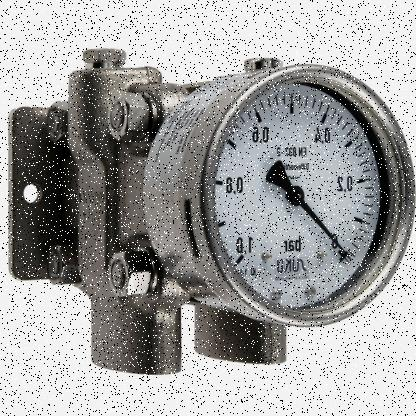needle: (299, 199, 351, 261)
